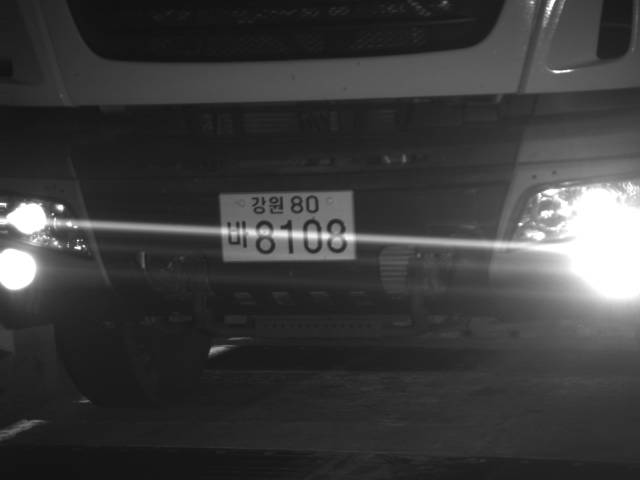car: (1, 1, 638, 406)
plate: (217, 188, 360, 262)
